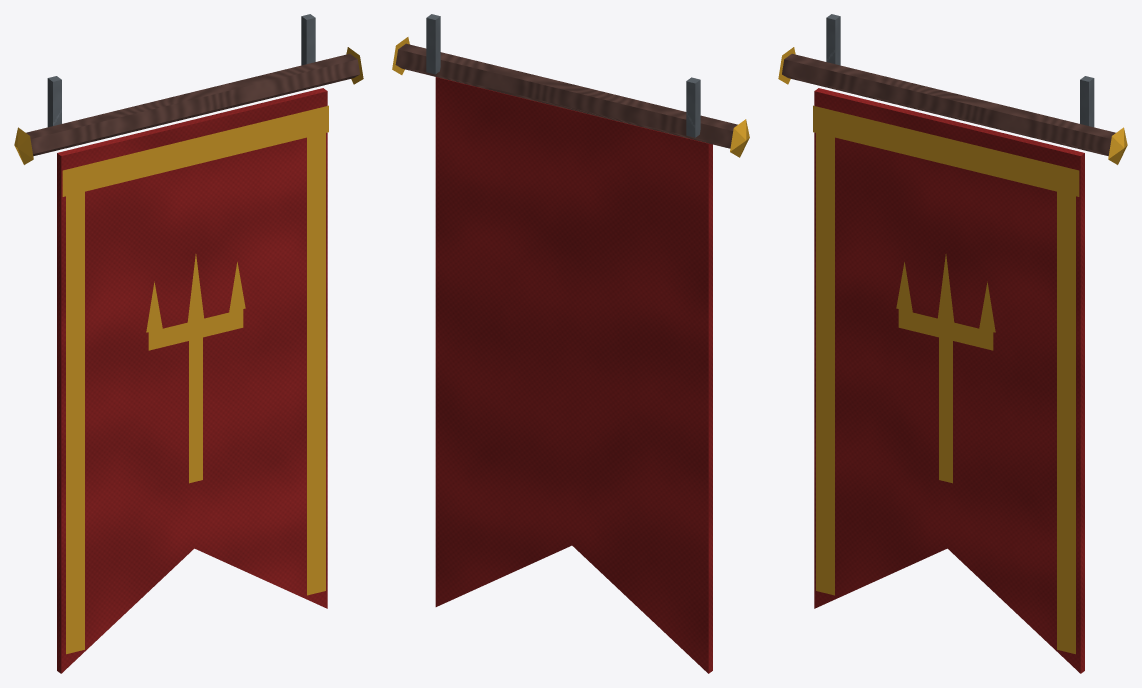
Rendered from banner.glb.
The picture shows the model from 3 angles, left to right: view 1: azimuth 30°, elevation 25°; view 2: azimuth 150°, elevation 25°; view 3: azimuth 330°, elevation 25°; orthographic projection. The views are drawn at different scales.
Parts seen in each view (by area): view 1: base_mesh; view 2: base_mesh; view 3: base_mesh.
Part boxes in pixels (<box>): base_mesh: <box>14,14,363,673</box>; base_mesh: <box>392,14,749,673</box>; base_mesh: <box>778,14,1127,673</box>.
Bounding box in the file's own units: 0.54 × 0.88 × 0.0537.
5 materials, 3 textured.
